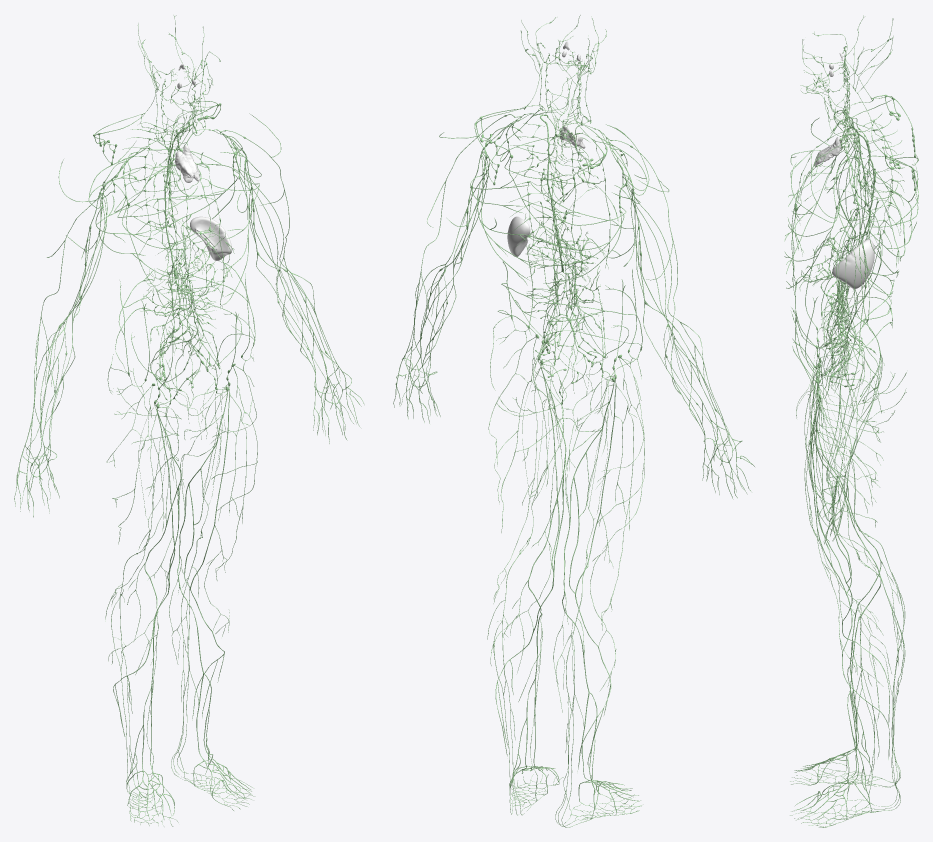
The model's file is male-2024-lymphatic-system-low.glb.
3 renders of one model, left to right at view 1: azimuth 30°, elevation 25°; view 2: azimuth 150°, elevation 25°; view 3: azimuth 270°, elevation 25°, orthographic. The views are drawn at different scales.
Visible parts, largest first — view 1: Anteromedial Superficial Lymph Vessels of Lower Limb (×2), Superficial Lymph Vessels of Thoracic Wall (×2), Superficial Lymph Vessels of Forearm (×2), Posterolateral Superficial Lymph Vessels of Lower Limb (×2), Superficial Lymph Vessels of Arm (×2), Spleen; view 2: Anteromedial Superficial Lymph Vessels of Lower Limb (×2), Superficial Lymph Vessels of Thoracic Wall (×2), Superficial Lymph Vessels of Forearm (×2), Posterolateral Superficial Lymph Vessels of Lower Limb (×2), Superficial Lymph Vessels of Arm (×2), Spleen; view 3: Anteromedial Superficial Lymph Vessels of Lower Limb (×2), Posterolateral Superficial Lymph Vessels of Lower Limb (×2), Superficial Lymph Vessels of Thoracic Wall (×2), Superficial Lymph Vessels of Arm (×2), Superficial Lymph Vessels of Forearm (×2), Spleen, Superficial Lymph Vessels of Abdominal Wall (×2), Intercostal Lymphatic Trunks (×2), Deep Lymph Vessels of Forearm, Thymus, Superficial Lymph Vessels of Hand.
Boxes of the visible parts, x1,y1,x2,y2 form: Anteromedial Superficial Lymph Vessels of Lower Limb (×2): (106, 298, 257, 826); Superficial Lymph Vessels of Thoracic Wall (×2): (88, 136, 261, 311); Superficial Lymph Vessels of Forearm (×2): (26, 239, 338, 443); Posterolateral Superficial Lymph Vessels of Lower Limb (×2): (105, 539, 255, 825); Superficial Lymph Vessels of Arm (×2): (46, 113, 289, 314); Spleen: (190, 216, 232, 260); Anteromedial Superficial Lymph Vessels of Lower Limb (×2): (488, 310, 644, 826); Superficial Lymph Vessels of Thoracic Wall (×2): (470, 109, 649, 290); Superficial Lymph Vessels of Forearm (×2): (405, 246, 728, 439); Posterolateral Superficial Lymph Vessels of Lower Limb (×2): (487, 554, 641, 827); Superficial Lymph Vessels of Arm (×2): (426, 116, 677, 312); Spleen: (507, 216, 530, 256); Anteromedial Superficial Lymph Vessels of Lower Limb (×2): (790, 296, 906, 822); Posterolateral Superficial Lymph Vessels of Lower Limb (×2): (801, 536, 905, 827); Superficial Lymph Vessels of Thoracic Wall (×2): (784, 117, 918, 288); Superficial Lymph Vessels of Arm (×2): (833, 100, 898, 336); Superficial Lymph Vessels of Forearm (×2): (827, 212, 882, 475); Spleen: (832, 239, 874, 288); Superficial Lymph Vessels of Abdominal Wall (×2): (792, 245, 894, 385); Intercostal Lymphatic Trunks (×2): (848, 113, 904, 257); Deep Lymph Vessels of Forearm: (830, 350, 870, 477); Thymus: (814, 137, 841, 165); Superficial Lymph Vessels of Hand: (823, 467, 848, 516).
Size of the model in its own units: 30.14 by 63.72 by 10.06.
